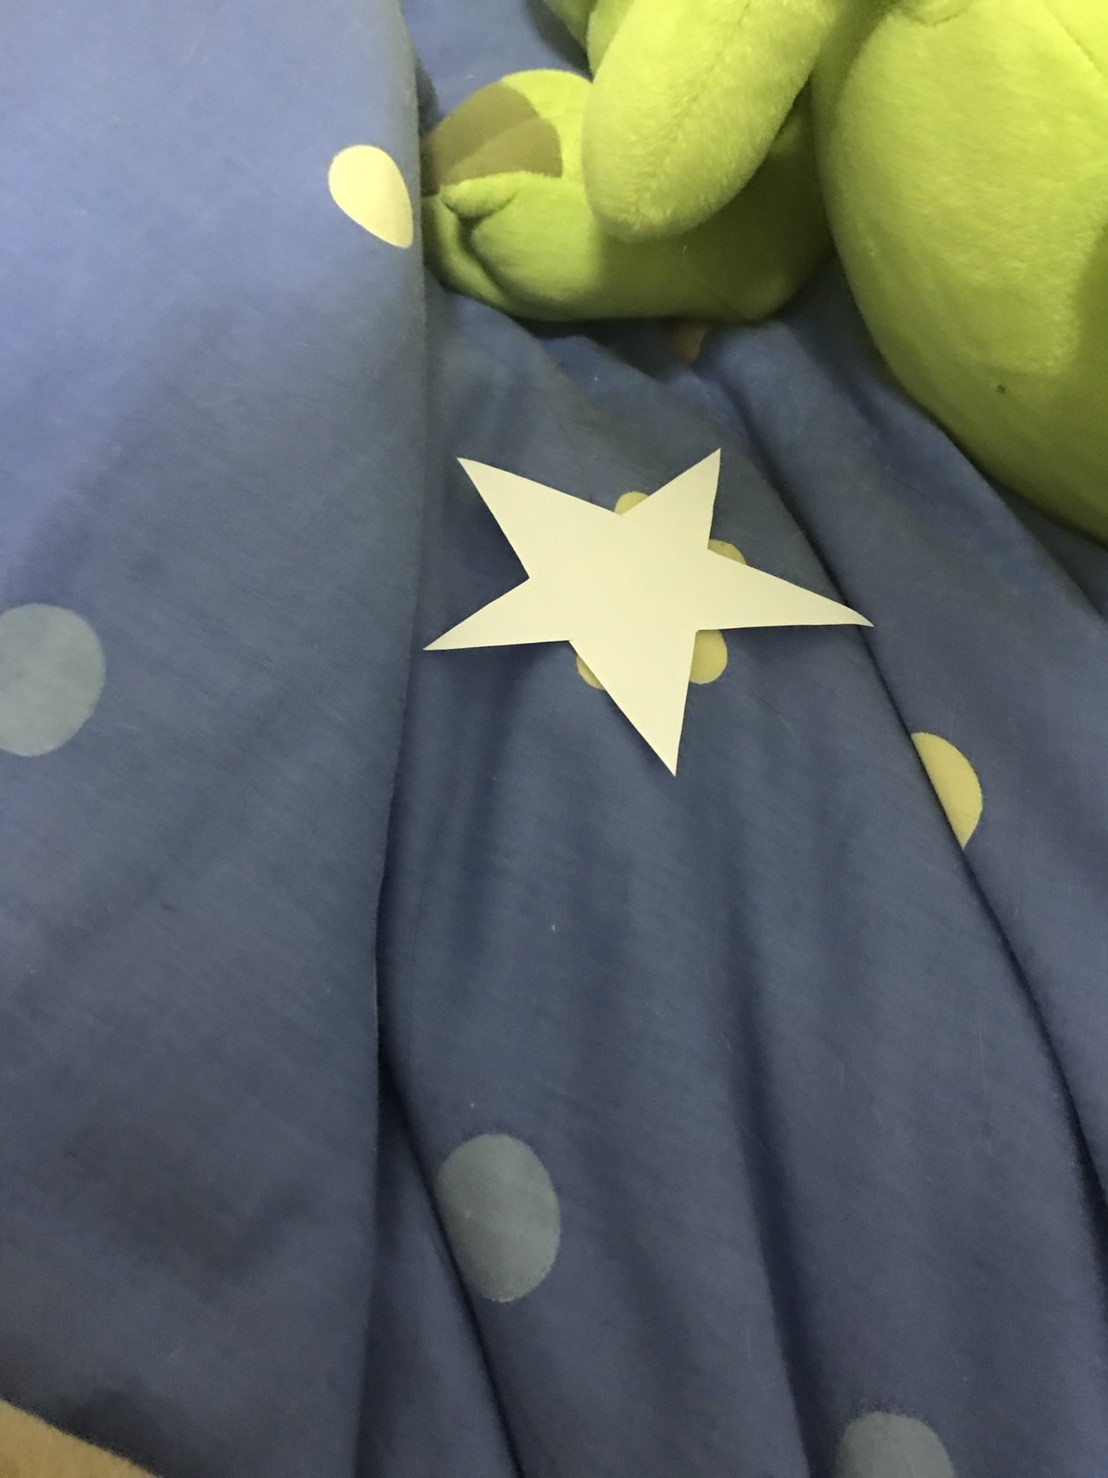star: (420, 390, 886, 811)
